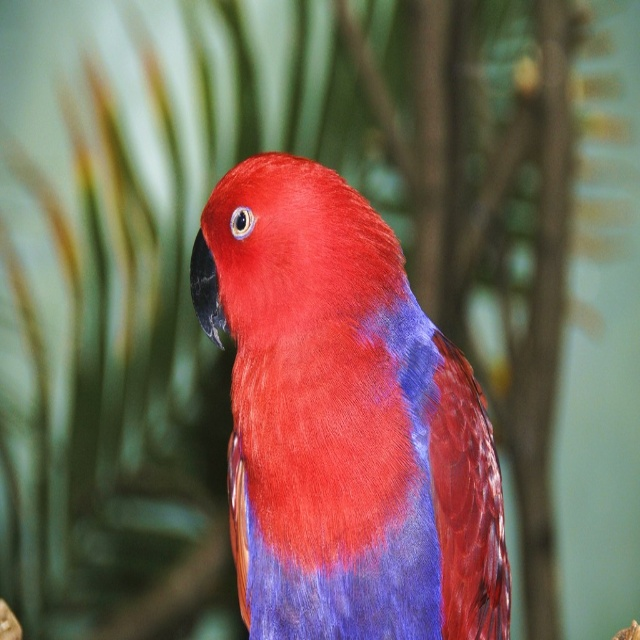Parrot: (190, 152, 512, 640)
